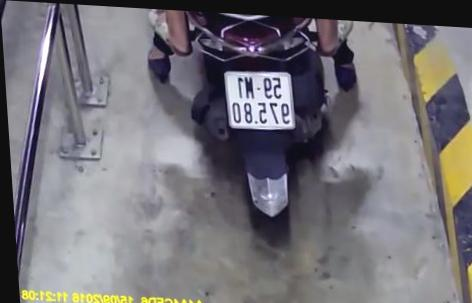License_Plate: (215, 63, 302, 137)
